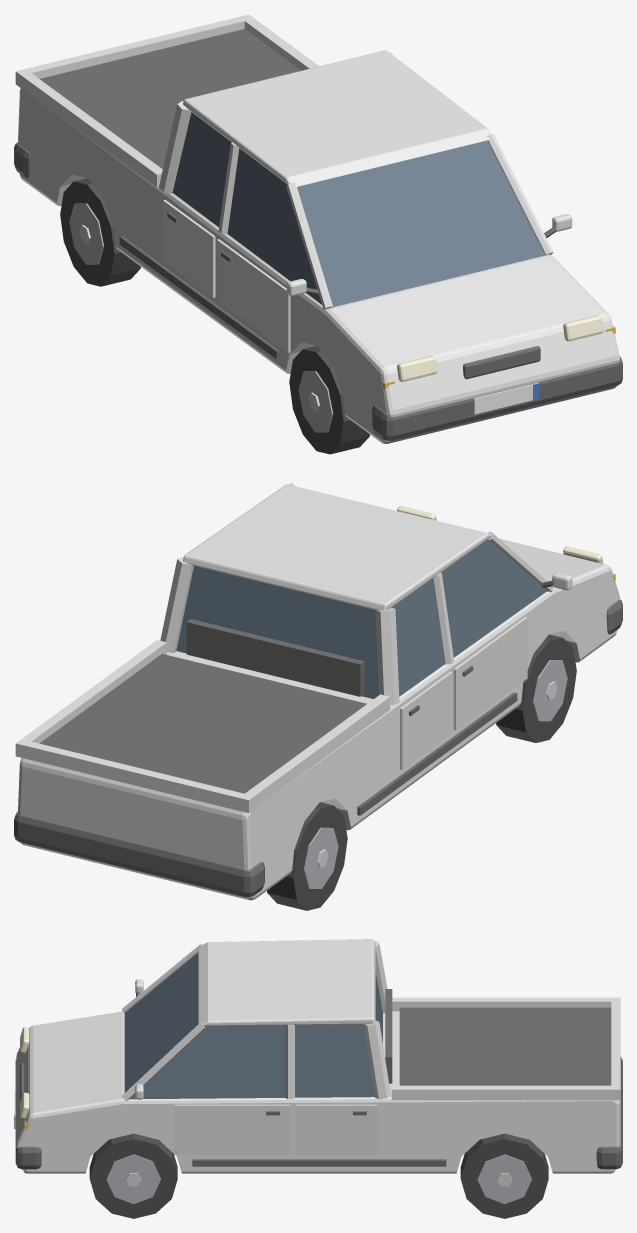
File: car-pickup.glb
3 renders of one model, top to bottom at view 1: azimuth 30°, elevation 25°; view 2: azimuth 150°, elevation 25°; view 3: azimuth 270°, elevation 25°, orthographic. The views are drawn at different scales.
Visible parts, largest first — view 1: body, detach_bumper_front, wheel-back-right, wheel-front-right, detach_door_right; view 2: body, detach_bumper_back, wheel-back-right, wheel-front-right, detach_door_right; view 3: body, detach_door_left, wheel-back-left, wheel-front-left, detach_bumper_back, detach_bumper_front.
Part boxes in pixels (left/top/right/bottom): body: left=15, top=14, right=620, bottom=443; detach_bumper_front: left=372, top=356, right=622, bottom=440; wheel-back-right: left=60, top=178, right=140, bottom=286; wheel-front-right: left=289, top=346, right=369, bottom=454; detach_door_right: left=216, top=239, right=290, bottom=352; body: left=15, top=483, right=619, bottom=900; detach_bumper_back: left=14, top=811, right=264, bottom=897; wheel-back-right: left=267, top=802, right=347, bottom=910; wheel-front-right: left=496, top=634, right=576, bottom=742; detach_door_right: left=453, top=617, right=527, bottom=730; body: left=16, top=939, right=620, bottom=1173; detach_door_left: left=174, top=1104, right=290, bottom=1154; wheel-back-left: left=460, top=1133, right=548, bottom=1218; wheel-front-left: left=89, top=1133, right=177, bottom=1218; detach_bumper_back: left=596, top=1056, right=622, bottom=1169; detach_bumper_front: left=14, top=1060, right=41, bottom=1169.
Size of the model in its own units: 2.28 by 1.85 by 5.25.
